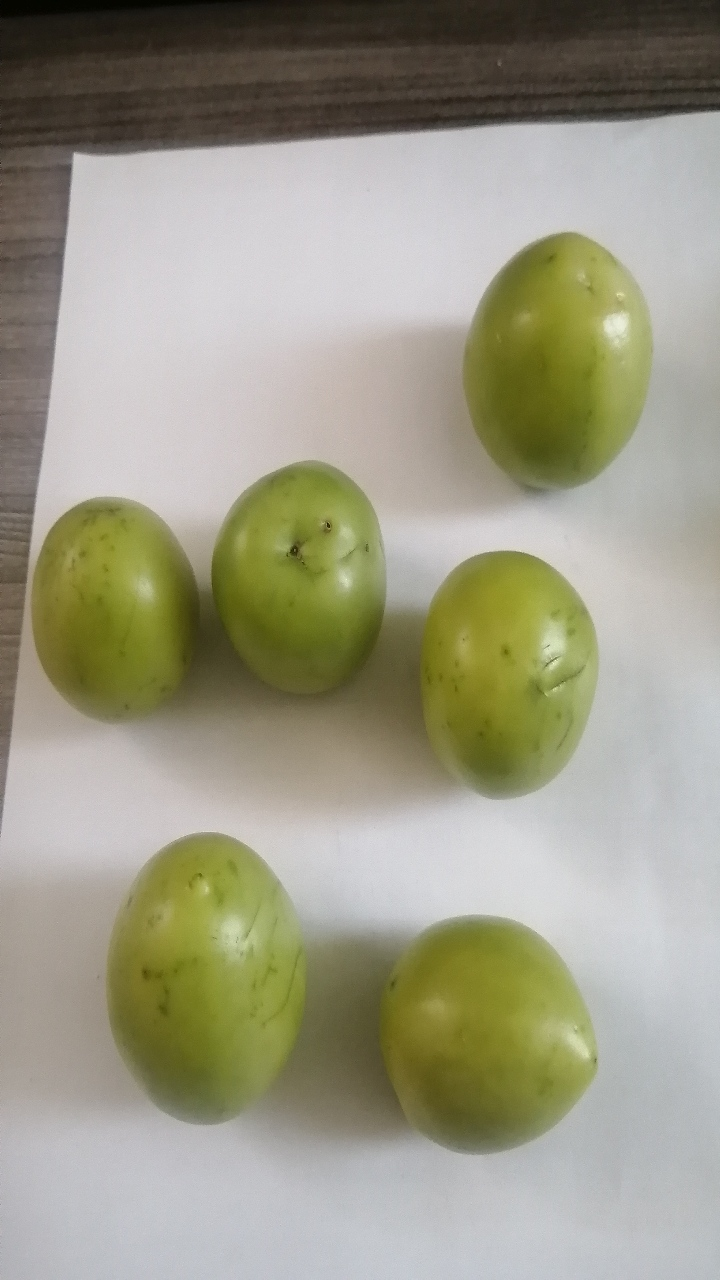tomateVerde: (89, 820, 334, 1139), (361, 883, 614, 1169), (443, 202, 668, 508), (394, 522, 617, 811), (200, 429, 395, 726), (14, 488, 212, 745)
